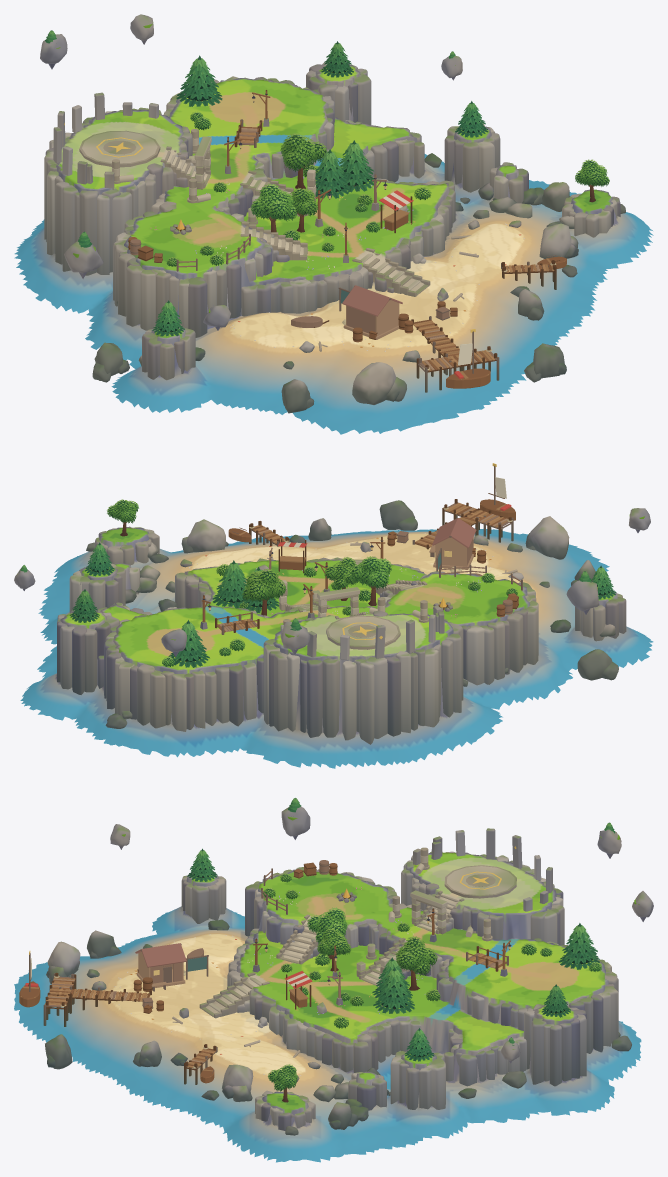
Rendered from island.glb.
3 renders of one model, top to bottom at view 1: azimuth 30°, elevation 25°; view 2: azimuth 150°, elevation 25°; view 3: azimuth 270°, elevation 25°, orthographic. The views are drawn at different scales.
Parts seen in each view (by area): view 1: ground, shack-19, piece (×2), cliff-273, deck-173, tree-pine-1, tree-round-0, tree-round-3, tree-pine-5, boat-sail, tree-pine-4, cliff-206 (+24 smaller); view 2: ground, piece (×3), shack-19, cliff-33, cliff-273, cliff-44, cliff-24, tree-round-0, cliff-48, cliff-39, cliff-66, cliff-281 (+43 smaller); view 3: ground, shack-19, piece (×2), deck-173, tree-round-0, tree-pine-5, tree-pine-1, cliff-273, cliff-281, tree-round-3, cliff-38, cliff-23 (+17 smaller).
Part boxes in pixels (x1,y1,x2,y2): ground: (14,63,653,434); shack-19: (338,285,402,339); piece (×2): (40,30,103,278); cliff-273: (352,362,406,404); deck-173: (82,131,157,163); tree-pine-1: (176,55,222,106); tree-round-0: (280,133,326,189); tree-round-3: (251,183,297,232); tree-pine-5: (339,140,377,192); boat-sail: (446,329,490,388); tree-pine-4: (315,149,350,198); cliff-206: (188,277,207,337); ground: (20,527,653,768); piece (×3): (161,571,599,656); shack-19: (429,518,476,572); cliff-33: (322,658,339,737); cliff-273: (525,516,569,559); cliff-44: (359,659,374,744); cliff-24: (306,660,322,737); tree-round-0: (242,568,286,615); cliff-48: (365,657,387,738); cliff-39: (342,660,356,740); cliff-66: (425,649,439,727); cliff-281: (181,519,225,553); ground: (14,852,641,1162); shack-19: (135,943,208,991); piece (×2): (281,798,621,858); deck-173: (447,866,514,895); tree-round-0: (395,936,437,990); tree-pine-5: (373,967,414,1013); tree-pine-1: (559,923,599,969); cliff-273: (47,941,80,984); cliff-281: (222,1064,253,1101); tree-round-3: (307,907,347,959); cliff-38: (531,1018,546,1084); cliff-23: (550,1025,562,1086).
Size of what is drawn, in the model's own units: 68.18 by 19.82 by 72.12.
3 materials, 2 textured.
